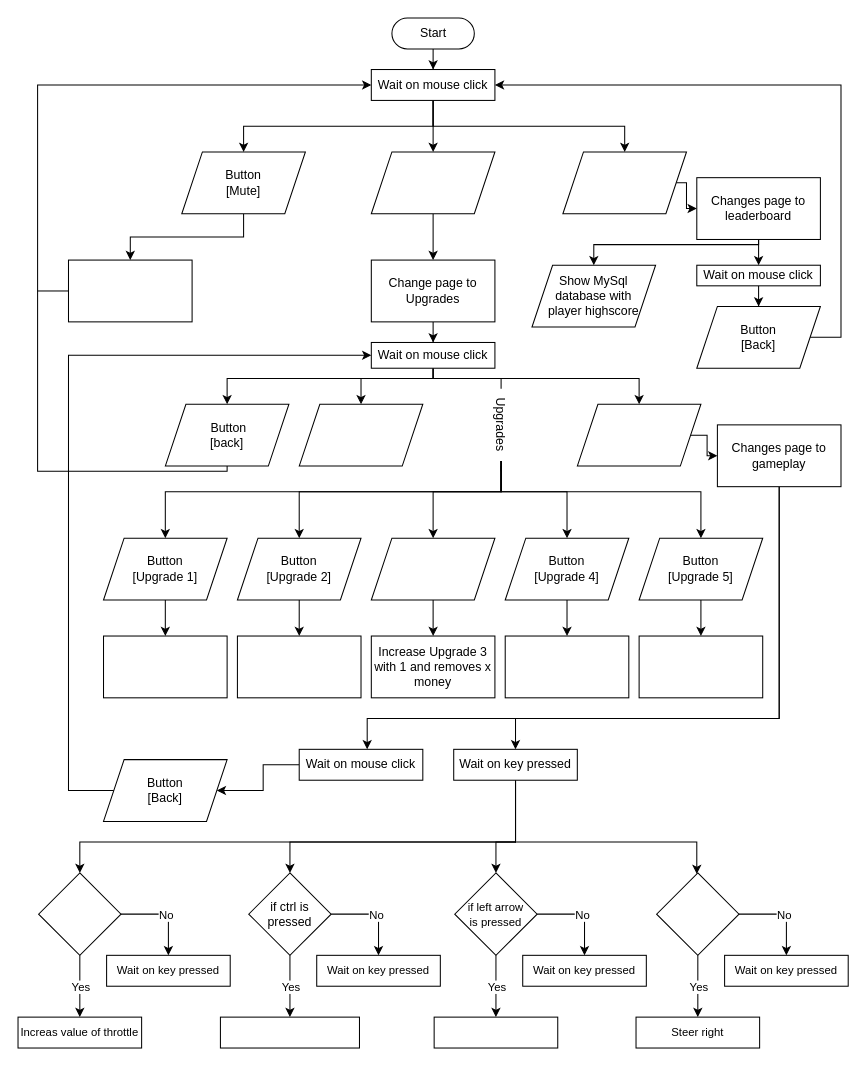
The diagram is 867 pixels wide and 1066 high, and some of its shapes have lost their labels. The centre of each missing label's shape, as x and y in pixels:
Button [Leaderboard]: the point at 624,182
Button [Lift-off]: the point at 638,434
Button [Play]: the point at 432,182
Button [Upgrade 3]: the point at 432,568
Change value of mute: the point at 129,290
decrease value of throttle: the point at 289,1032
if right arrow is pressed: the point at 697,913
if shift is pressed: the point at 79,913
Increase Upgrade 1 with 1 and removes x money: the point at 164,666
Increase Upgrade 2 with 1 and removes x money: the point at 298,666
Increase Upgrade 4 with 1 and removes x money: the point at 566,666
Increase Upgrade 5 with 1 and removes x money: the point at 700,666
Steer left: the point at 495,1032
Value [Money]: the point at 360,434
